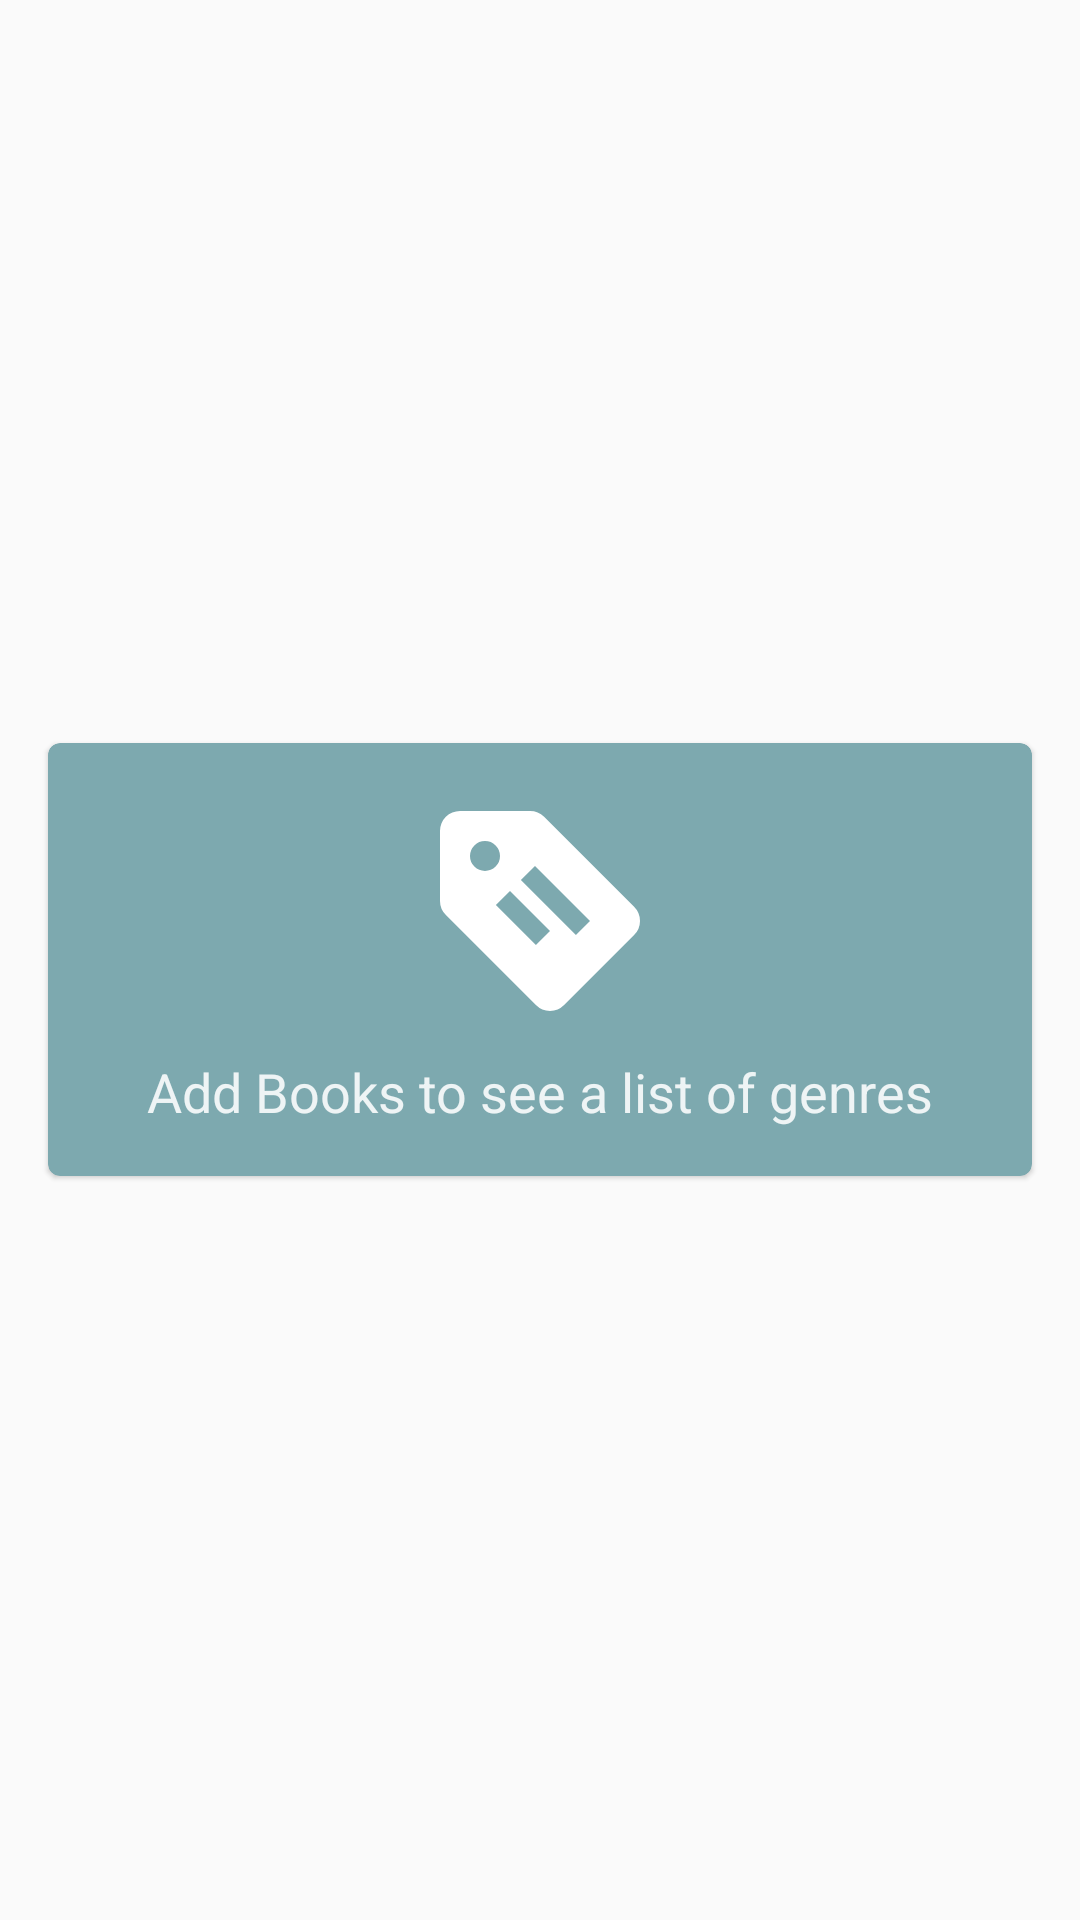

Locate icon controls on the screen. Image size 1080 x 1920, boxes as box(x1, y1, x2, y2).
tag text: box(440, 811, 640, 1011)
